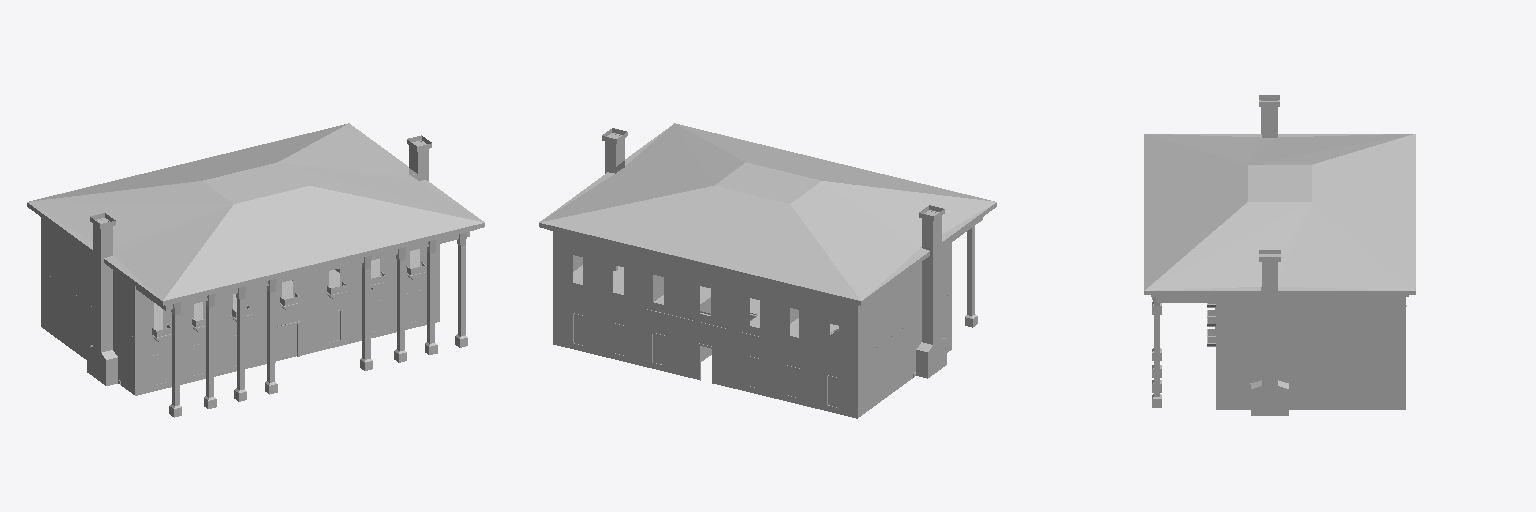
The model's file is Hammond.sMansion.obj.
The picture shows the model from 3 angles: view 1: azimuth 30°, elevation 25°; view 2: azimuth 150°, elevation 25°; view 3: azimuth 270°, elevation 25°; orthographic projection.
Visible parts, largest first — view 1: S1Roof01-00.S1Roof01-00_S1Roof01-00, SHHWalls1stFlrOut01-00.SHHWalls1stFlrOut01-00_SHHWalls1stFlrOut0, SHHWalls2ndFlrOutSde01-00.SHHWalls2ndFlrOutSde01-00_SHHWalls2ndF, S1Chiminey02-00.S1Chiminey02-01.001_S1Chiminey02-00.001, SRoofMoldng01-00.SRoofMoldng01-00_SRoofMoldng01-00, SHH1stFlrClng01-00.SHH1stFlrClng01-00_SHH1stFlrClng01-00, S1pilars01-00.S1pilars01-04.007_S1pilars01-00.020, S1pilars01-00.S1pilars01-04.006_S1pilars01-00.019, S1pilars01-00.S1pilars01-04.003_S1pilars01-00.008, S1pilars01-00.S1pilars01-04.004_S1pilars01-00.017, S1pilars01-00.S1pilars01-04.002_S1pilars01-00.007, S1pilars01-00.S1pilars01-04_S1pilars01-00 (+4 smaller); view 2: S1Roof01-00.S1Roof01-00_S1Roof01-00, SHHWalls1stFlrOut01-00.SHHWalls1stFlrOut01-00_SHHWalls1stFlrOut0, SHHWalls2ndFlrOutSde01-00.SHHWalls2ndFlrOutSde01-00_SHHWalls2ndF, S1Chiminey02-00.S1Chiminey02-01.001_S1Chiminey02-00.001, SHHWallLspiso02-00.SHHWallLspiso02-00_SHHWallLspiso02-00, SHHWallLspiso01-00.SHHWallLspiso01-00_SHHWallLspiso01-00, S1Chiminey02-00.S1Chiminey02-01_S1Chiminey02-00, S1pilars01-00.S1pilars01-04_S1pilars01-00, SHH1stFlrClng01-00.SHH1stFlrClng01-00_SHH1stFlrClng01-00; view 3: S1Roof01-00.S1Roof01-00_S1Roof01-00, SHHWalls1stFlrOut01-00.SHHWalls1stFlrOut01-00_SHHWalls1stFlrOut0, SHHWalls2ndFlrOutSde01-00.SHHWalls2ndFlrOutSde01-00_SHHWalls2ndF, S1Chiminey02-00.S1Chiminey02-01_S1Chiminey02-00, SHHWallLspiso02-00.SHHWallLspiso02-00_SHHWallLspiso02-00, S1Chiminey02-00.S1Chiminey02-01.001_S1Chiminey02-00.001, S1pilars01-00.S1pilars01-04.004_S1pilars01-00.017.
Part boxes in pixels (left/top/right/bottom): S1Roof01-00.S1Roof01-00_S1Roof01-00: left=27, top=123, right=484, bottom=305; SHHWalls1stFlrOut01-00.SHHWalls1stFlrOut01-00_SHHWalls1stFlrOut0: left=41, top=265, right=439, bottom=395; SHHWalls2ndFlrOutSde01-00.SHHWalls2ndFlrOutSde01-00_SHHWalls2ndF: left=41, top=217, right=439, bottom=338; S1Chiminey02-00.S1Chiminey02-01.001_S1Chiminey02-00.001: left=87, top=213, right=117, bottom=385; SRoofMoldng01-00.SRoofMoldng01-00_SRoofMoldng01-00: left=136, top=232, right=469, bottom=310; SHH1stFlrClng01-00.SHH1stFlrClng01-00_SHH1stFlrClng01-00: left=154, top=249, right=419, bottom=330; S1pilars01-00.S1pilars01-04.007_S1pilars01-00.020: left=360, top=256, right=372, bottom=370; S1pilars01-00.S1pilars01-04.006_S1pilars01-00.019: left=394, top=247, right=406, bottom=362; S1pilars01-00.S1pilars01-04.003_S1pilars01-00.008: left=265, top=279, right=277, bottom=394; S1pilars01-00.S1pilars01-04.004_S1pilars01-00.017: left=455, top=232, right=467, bottom=347; S1pilars01-00.S1pilars01-04.002_S1pilars01-00.007: left=234, top=286, right=246, bottom=401; S1pilars01-00.S1pilars01-04_S1pilars01-00: left=169, top=302, right=181, bottom=417; S1Roof01-00.S1Roof01-00_S1Roof01-00: left=539, top=123, right=996, bottom=305; SHHWalls1stFlrOut01-00.SHHWalls1stFlrOut01-00_SHHWalls1stFlrOut0: left=553, top=287, right=950, bottom=418; SHHWalls2ndFlrOutSde01-00.SHHWalls2ndFlrOutSde01-00_SHHWalls2ndF: left=553, top=231, right=951, bottom=360; S1Chiminey02-00.S1Chiminey02-01.001_S1Chiminey02-00.001: left=916, top=205, right=946, bottom=378; SHHWallLspiso02-00.SHHWallLspiso02-00_SHHWallLspiso02-00: left=573, top=255, right=905, bottom=359; SHHWallLspiso01-00.SHHWallLspiso01-00_SHHWallLspiso01-00: left=583, top=293, right=951, bottom=386; S1Chiminey02-00.S1Chiminey02-01_S1Chiminey02-00: left=602, top=128, right=627, bottom=173; S1pilars01-00.S1pilars01-04_S1pilars01-00: left=965, top=226, right=977, bottom=327; SHH1stFlrClng01-00.SHH1stFlrClng01-00_SHH1stFlrClng01-00: left=573, top=265, right=838, bottom=337; S1Roof01-00.S1Roof01-00_S1Roof01-00: left=1144, top=134, right=1415, bottom=296; SHHWalls1stFlrOut01-00.SHHWalls1stFlrOut01-00_SHHWalls1stFlrOut0: left=1216, top=352, right=1405, bottom=409; SHHWalls2ndFlrOutSde01-00.SHHWalls2ndFlrOutSde01-00_SHHWalls2ndF: left=1216, top=297, right=1405, bottom=351; S1Chiminey02-00.S1Chiminey02-01_S1Chiminey02-00: left=1251, top=250, right=1288, bottom=415; SHHWallLspiso02-00.SHHWallLspiso02-00_SHHWallLspiso02-00: left=1261, top=295, right=1339, bottom=351; S1Chiminey02-00.S1Chiminey02-01.001_S1Chiminey02-00.001: left=1259, top=95, right=1279, bottom=137; S1pilars01-00.S1pilars01-04.004_S1pilars01-00.017: left=1152, top=297, right=1161, bottom=407.
Size of the model in its own units: 2.18 by 1 by 1.54.